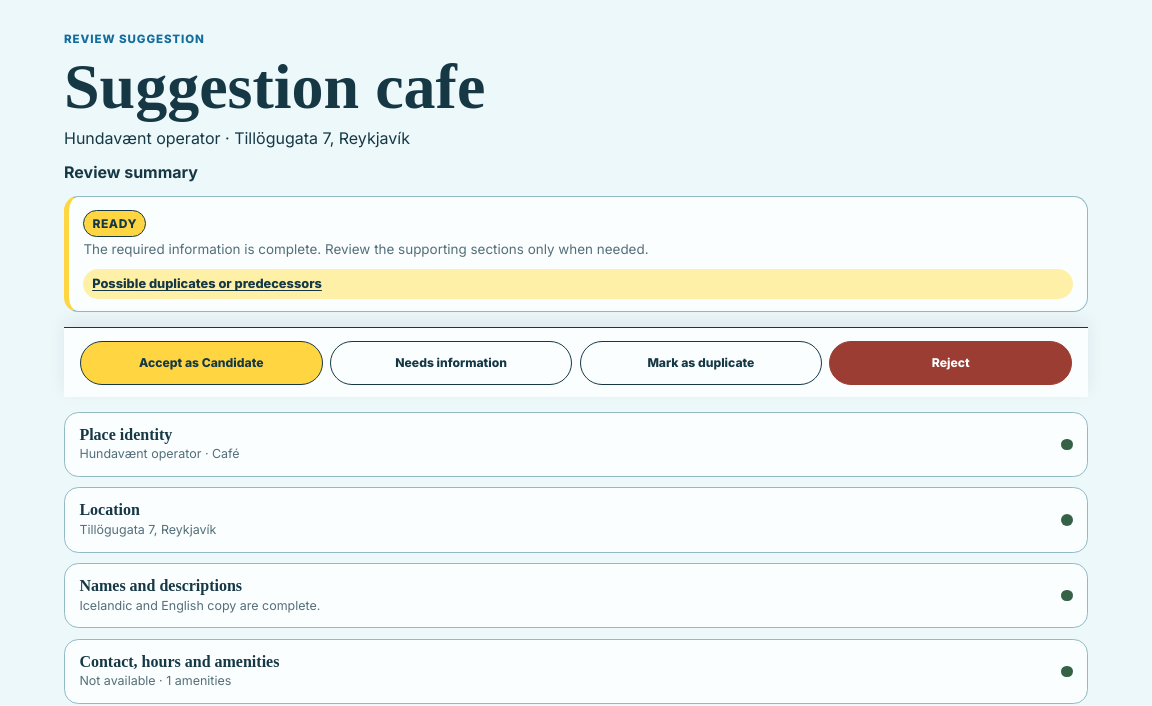
Moderator Suggestion workflow › reports unsaved Suggestion edits and guards standalone decisions until cancel
This screenshot has width=1152, height=706.
What coordinates should you click on to do the following:
click the heading "Place identity Hundavænt operator · Café"
I would click on:
 (126, 434)
Its box is 79,426 -> 1073,461.
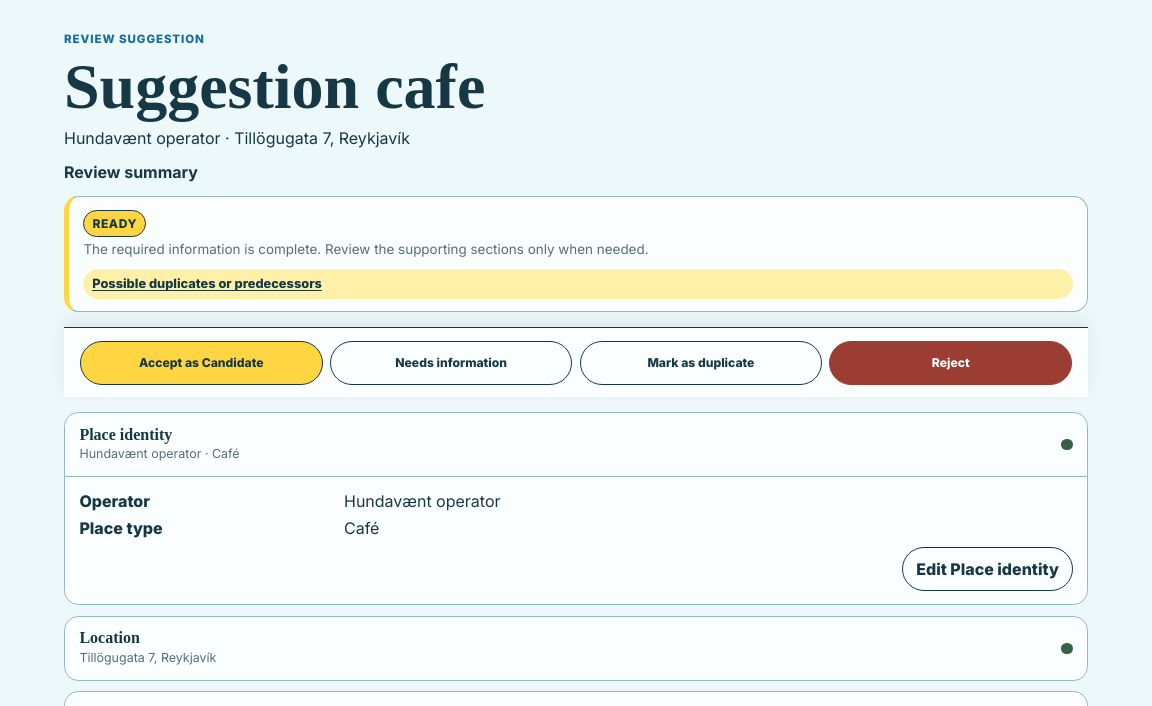
What coordinates should you click on to do the following:
click the button "Edit Place identity"
I would click on:
 (988, 569)
Its box is 902,547 -> 1073,591.
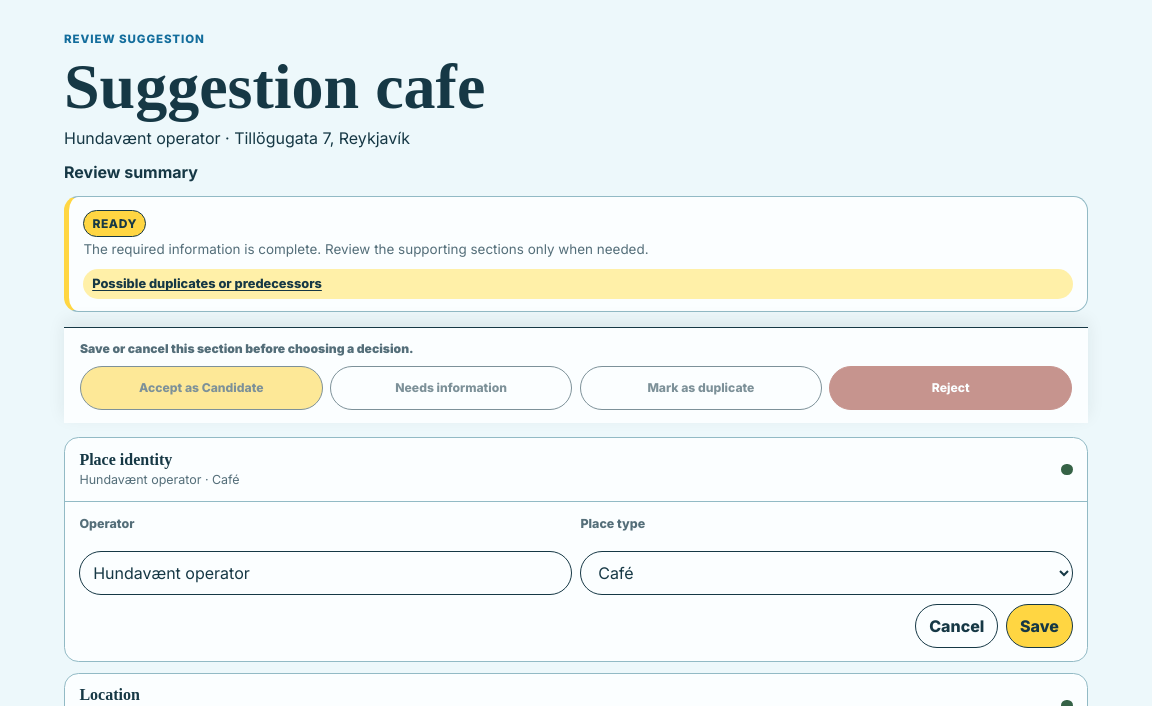
Expected: the text "Save or cancel this section before choosing a decision." is shown, 80,340 -> 414,356
Expected: the button "Accept as Candidate" is disabled, 80,366 -> 323,410
Expected: the button "Needs information" is disabled, 330,366 -> 572,410
What coordinates should you click on to do the following:
click the button "Cancel"
I would click on:
 (957, 626)
Its box is 915,604 -> 998,648.
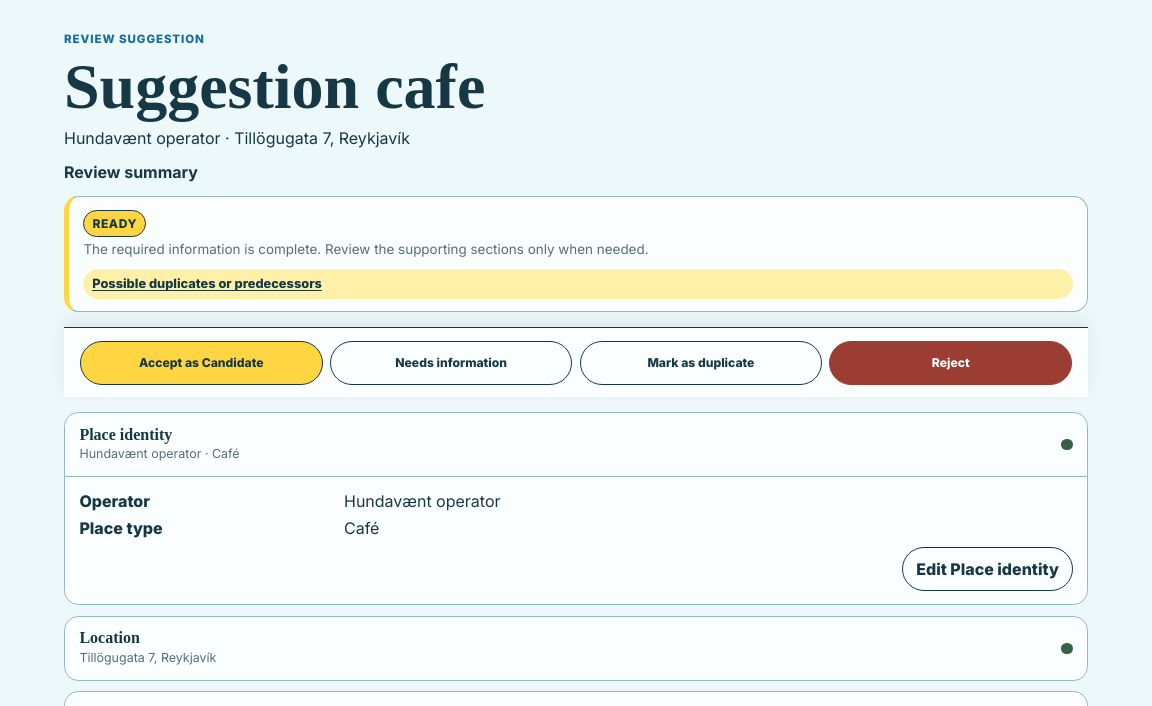
Expected: the button "Accept as Candidate" is enabled, 80,340 -> 323,384
